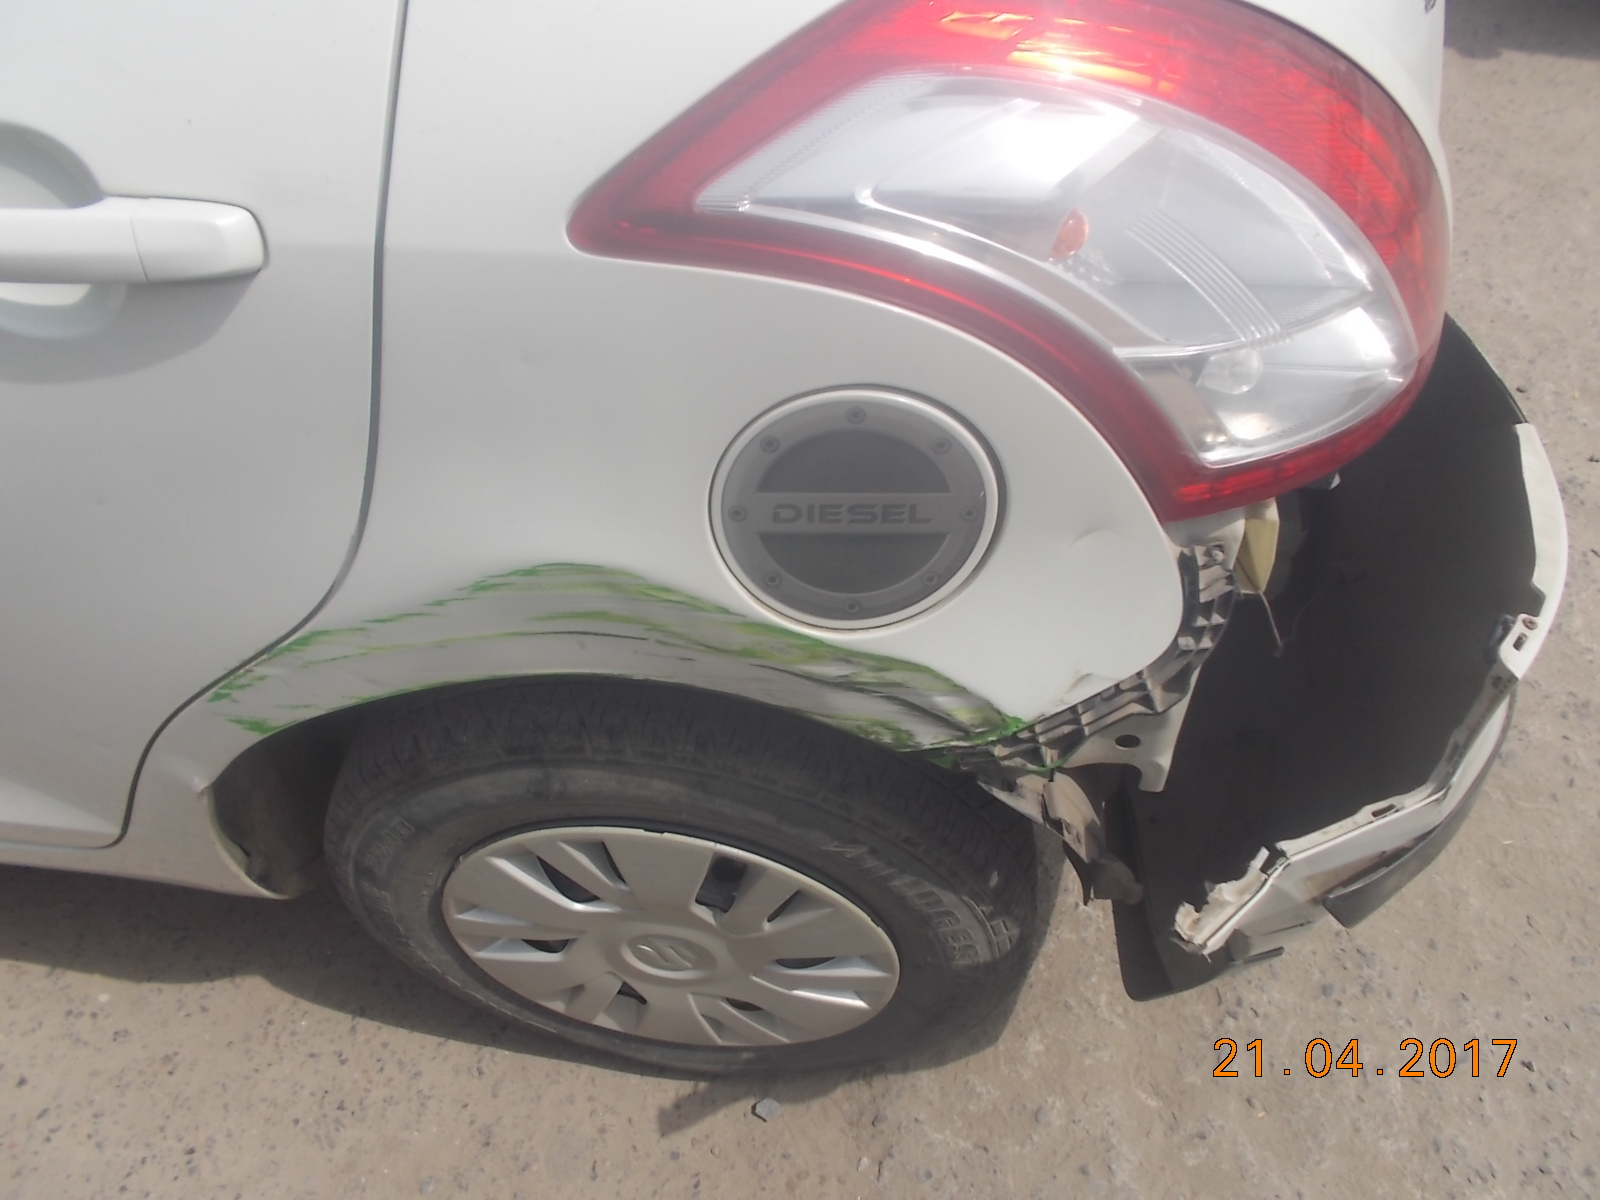Dislocation: (1019, 434, 1597, 1000)
